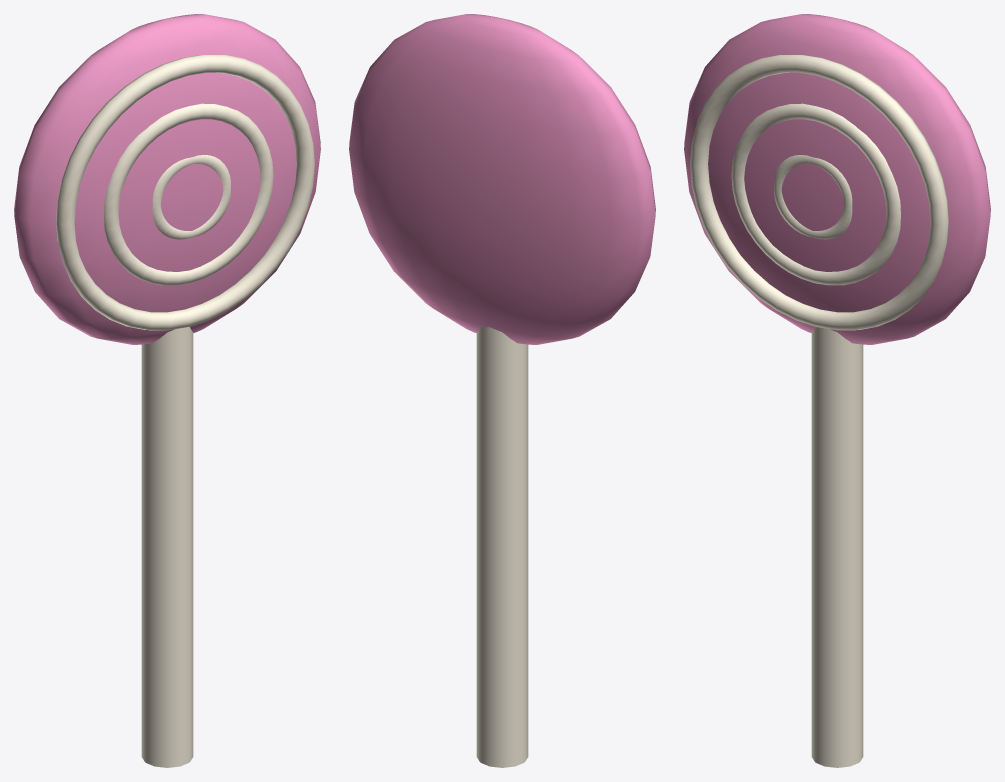
The model's file is st_candy_pop.glb.
3 renders of one model, left to right at view 1: azimuth 30°, elevation 25°; view 2: azimuth 150°, elevation 25°; view 3: azimuth 330°, elevation 25°, orthographic.
Parts seen in each view (by area): view 1: Swirl_Lollipop; view 2: Swirl_Lollipop; view 3: Swirl_Lollipop.
Boxes of the visible parts, bbox=[...] form: Swirl_Lollipop: bbox=[14, 14, 320, 767]; Swirl_Lollipop: bbox=[349, 14, 655, 767]; Swirl_Lollipop: bbox=[684, 14, 990, 767].
Bounding box in the file's own units: 0.66 × 1.52 × 0.19.
